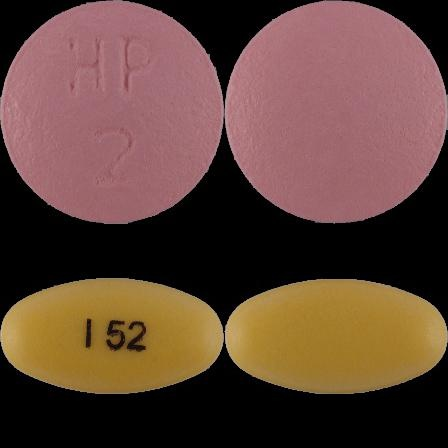48433-309: (0, 0, 224, 224)
